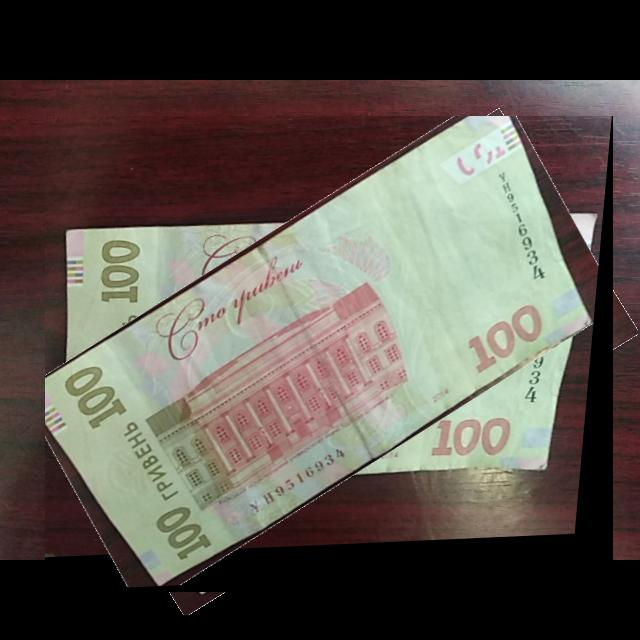100uah: (45, 116, 598, 588)
